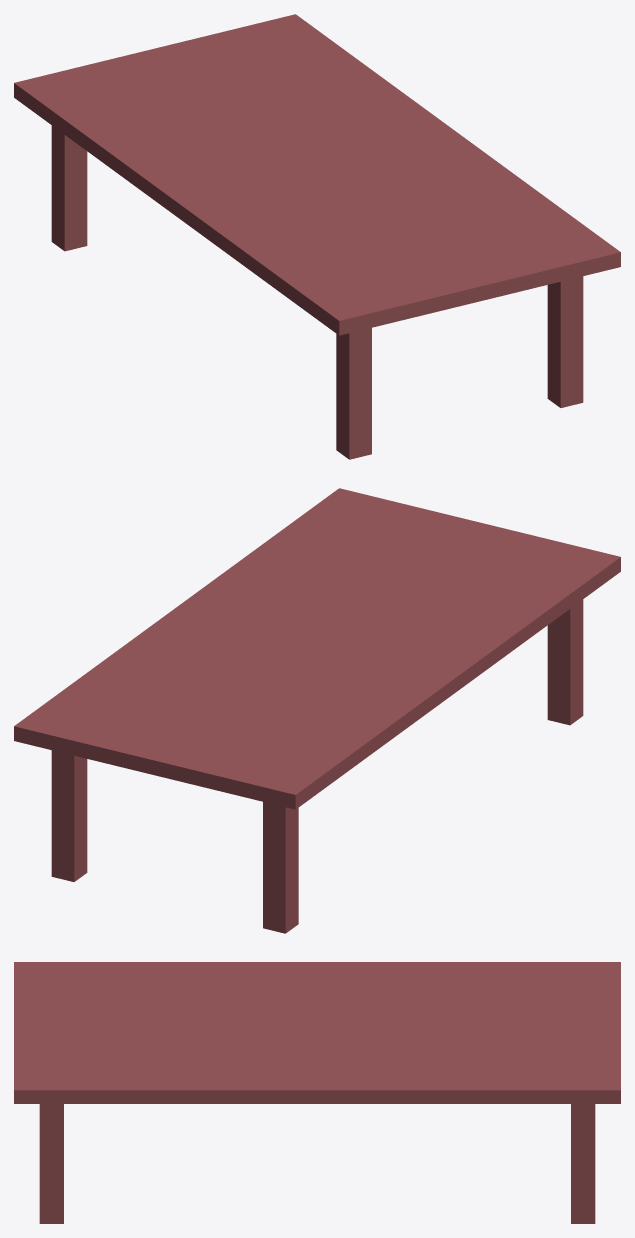
File: table2.fbx
3 renders of one model, top to bottom at view 1: azimuth 30°, elevation 25°; view 2: azimuth 150°, elevation 25°; view 3: azimuth 270°, elevation 25°, orthographic. The views are drawn at different scales.
Parts seen in each view (by area): view 1: Cube.001; view 2: Cube.001; view 3: Cube.001.
Boxes of the visible parts, bbox=[...] form: Cube.001: bbox=[14, 14, 620, 459]; Cube.001: bbox=[14, 488, 620, 933]; Cube.001: bbox=[14, 962, 620, 1223].
Size of the model in its own units: 2000 by 1050 by 4000.
